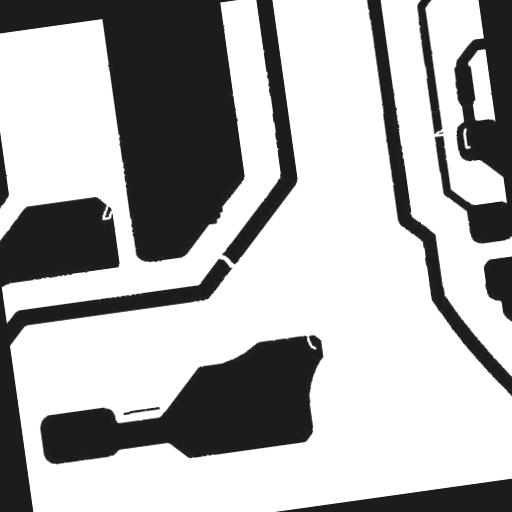copper: (114, 398, 169, 424)
mousebite: (92, 194, 124, 229), (298, 324, 325, 358)
open: (210, 244, 243, 278), (423, 119, 454, 146)
pin-hole: (454, 118, 480, 158)
spur: (198, 196, 232, 233)
